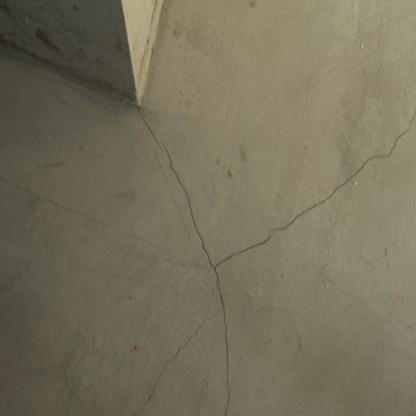Cracks: (116, 89, 416, 416)
